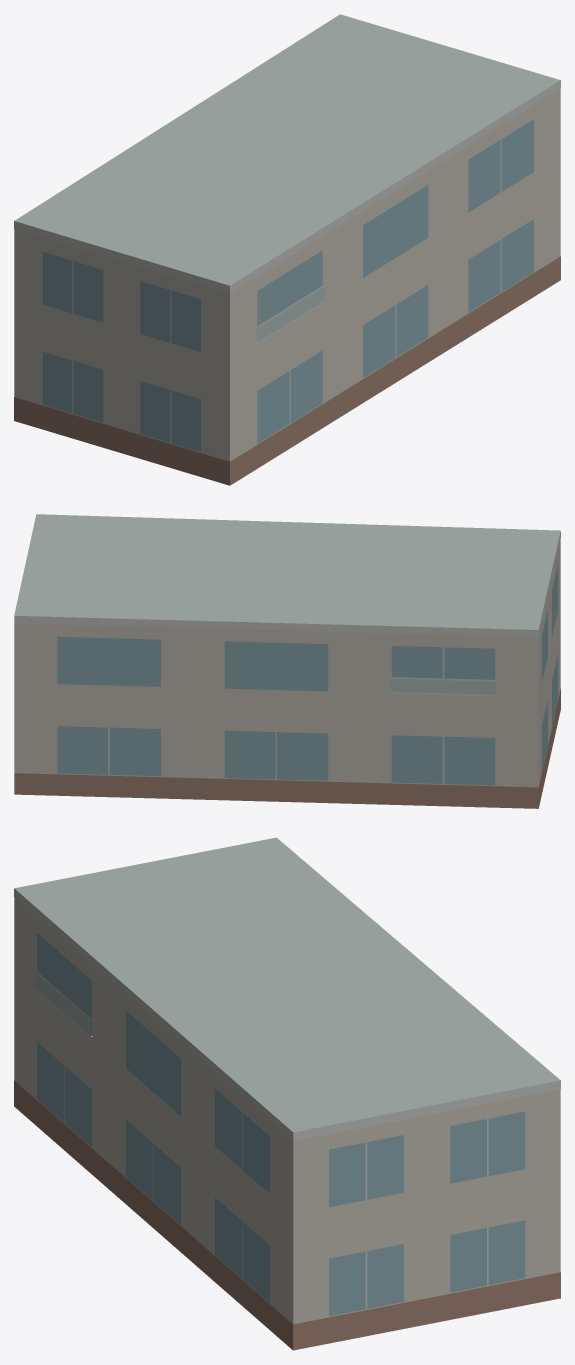
Rendered from survey-upis-32746015.glb.
3 views of the same model, one above another, from view 1: azimuth 30°, elevation 25°; view 2: azimuth 150°, elevation 25°; view 3: azimuth 270°, elevation 25° (orthographic). The views are drawn at different scales.
Parts seen in each view (by area): view 1: survey-upis-32746015.tmp; view 2: survey-upis-32746015.tmp; view 3: survey-upis-32746015.tmp.
Part boxes in pixels (left/top/right/bottom): survey-upis-32746015.tmp: left=14, top=14, right=560, bottom=485; survey-upis-32746015.tmp: left=14, top=514, right=560, bottom=808; survey-upis-32746015.tmp: left=14, top=837, right=560, bottom=1350.
Size of the model in its own units: 17.71 by 6.1 by 13.87.
